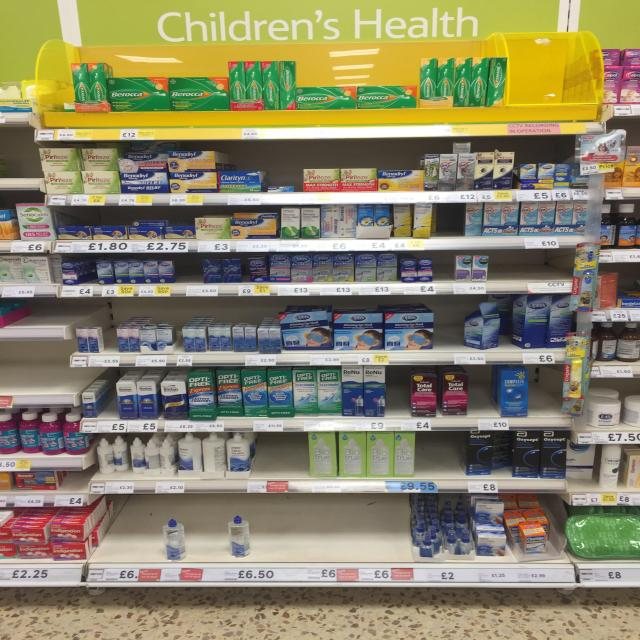empty: (253, 496, 411, 559), (507, 31, 594, 105), (2, 341, 71, 394), (106, 497, 162, 559), (188, 493, 226, 558), (490, 250, 573, 279), (417, 430, 462, 478), (259, 432, 305, 475), (435, 299, 464, 353), (529, 365, 559, 416), (470, 368, 496, 419), (389, 367, 409, 417), (440, 204, 462, 237), (434, 254, 454, 279)
